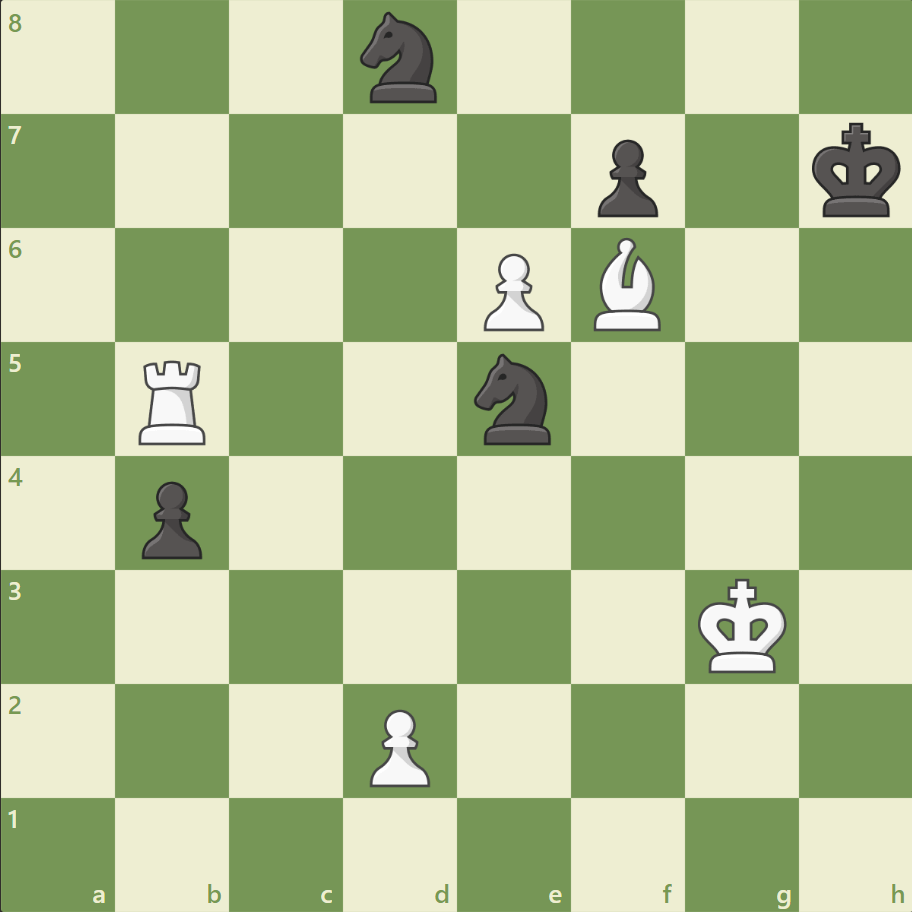B: (585, 233, 669, 336)
K: (692, 571, 792, 679)
P: (474, 246, 549, 337), (361, 700, 435, 791)
R: (133, 352, 215, 449)
k: (806, 117, 906, 225)
n: (351, 7, 449, 110), (465, 348, 562, 450)
p: (133, 473, 208, 564), (588, 132, 662, 223)
